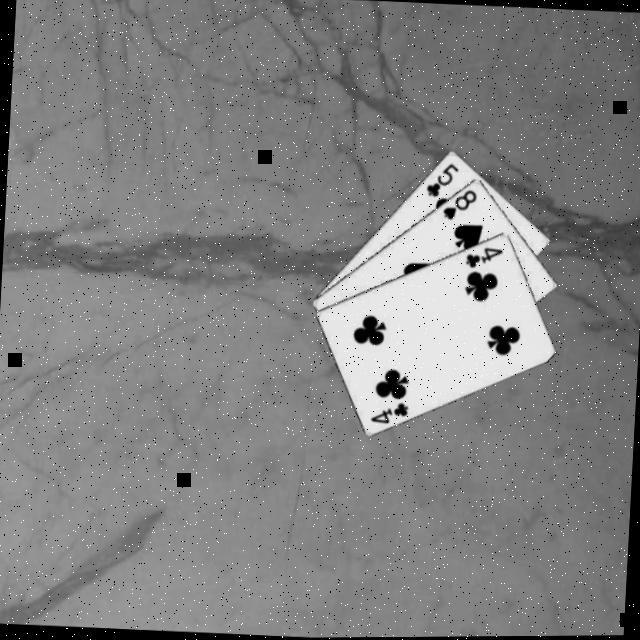4C: (366, 399, 411, 427), (462, 245, 505, 273)
5C: (422, 160, 460, 202)
8S: (438, 187, 480, 225)
